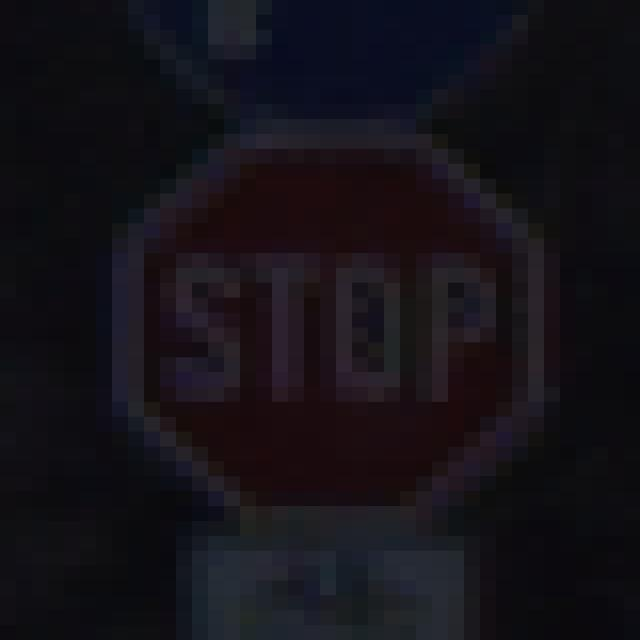STOP: (81, 90, 561, 567)
